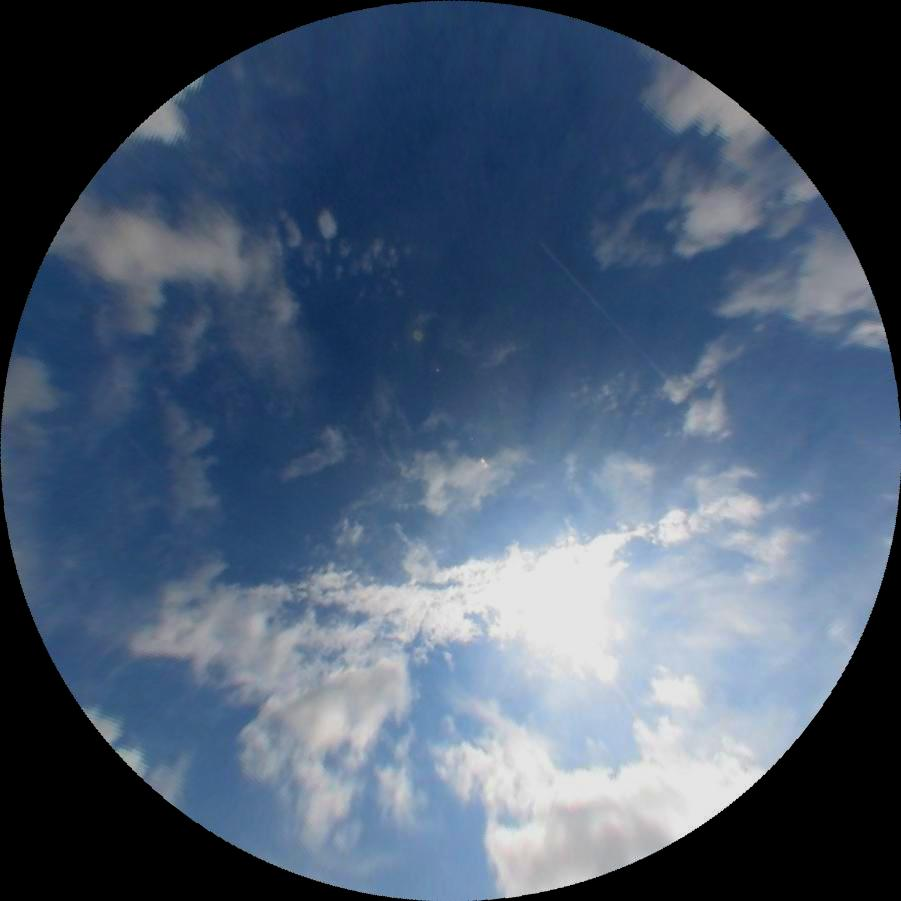contrail young: (536, 240, 670, 380)
